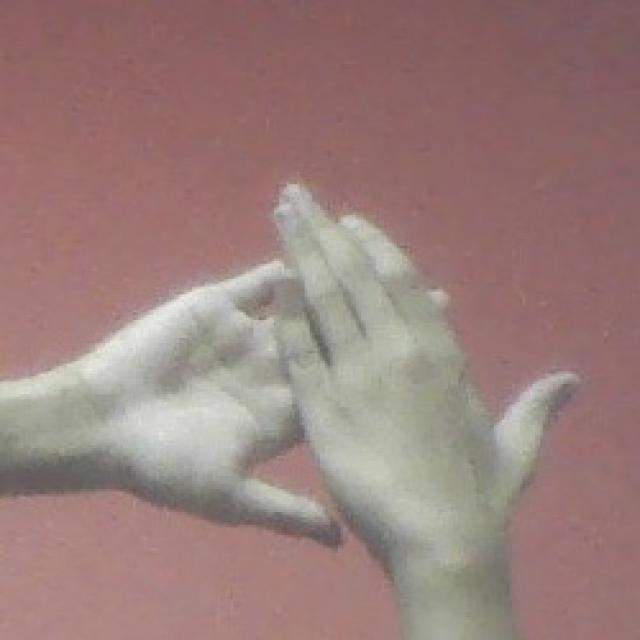Alphabet-H: (64, 172, 596, 640)
